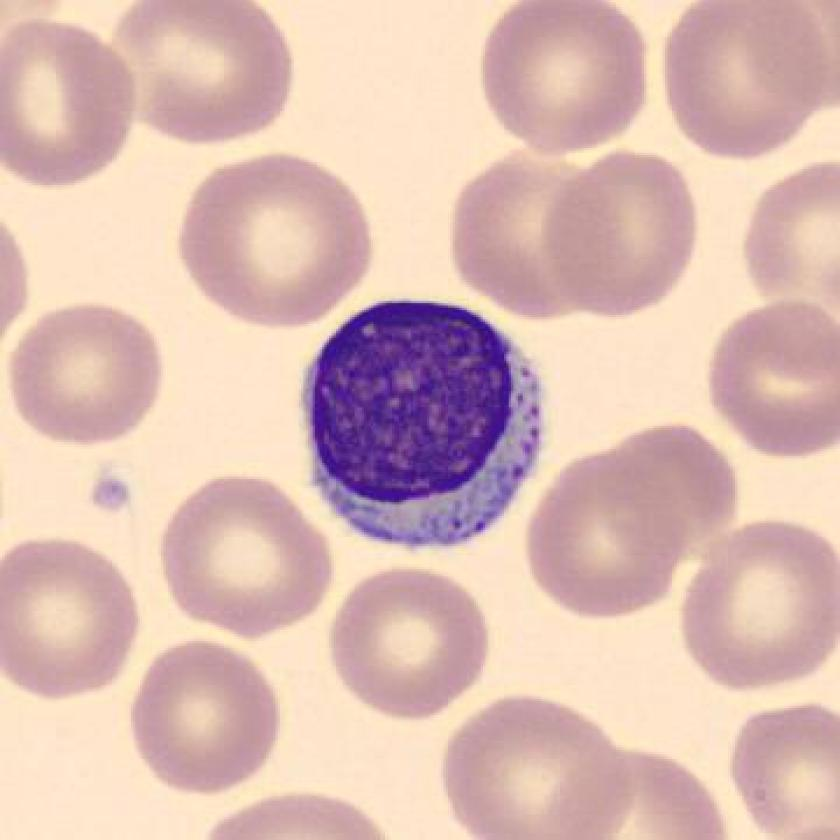lymphocyte: (290, 288, 566, 575)
